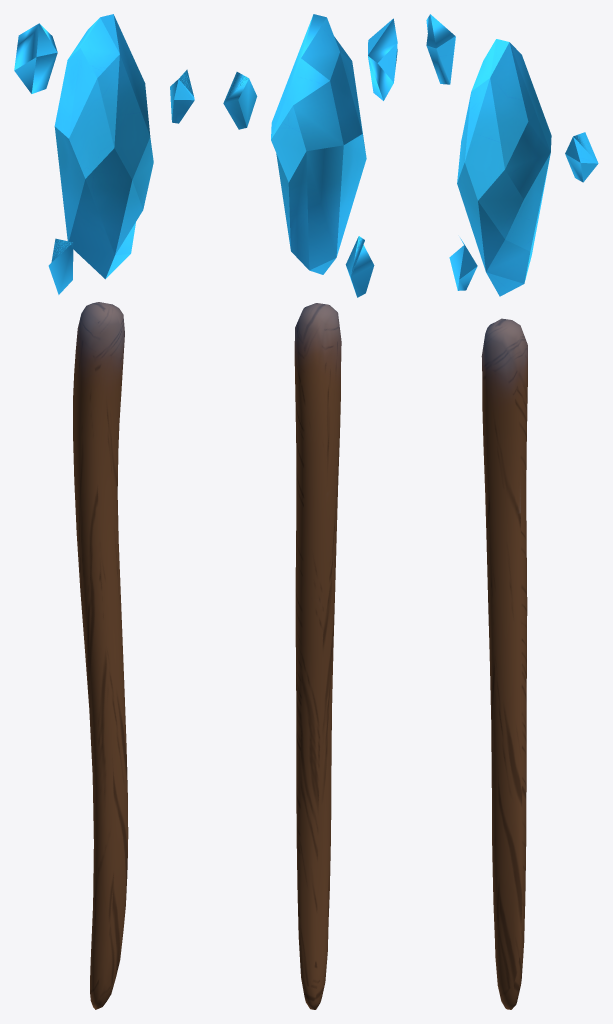
File: magic_stick.glb
3 views of the same model, side by side, from view 1: azimuth 30°, elevation 25°; view 2: azimuth 150°, elevation 25°; view 3: azimuth 330°, elevation 25° (orthographic). The views are drawn at different scales.
Bounding box in the file's own units: 0.1214 × 0.6654 × 0.0685.
Materials: 1 (1 with a texture image).
